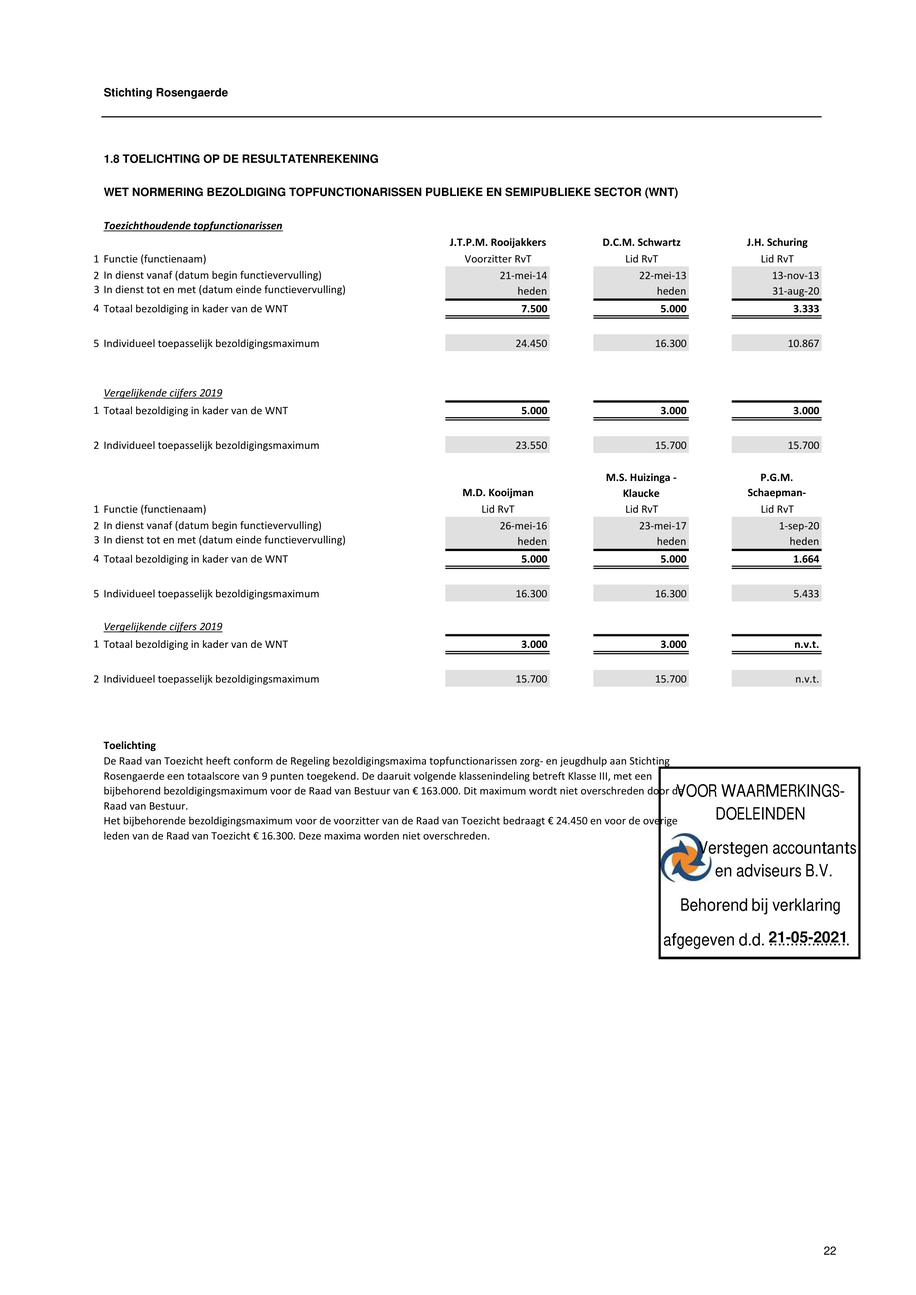coulmn: (89, 217, 352, 693), (442, 233, 558, 694), (589, 232, 695, 695), (727, 232, 826, 690)
